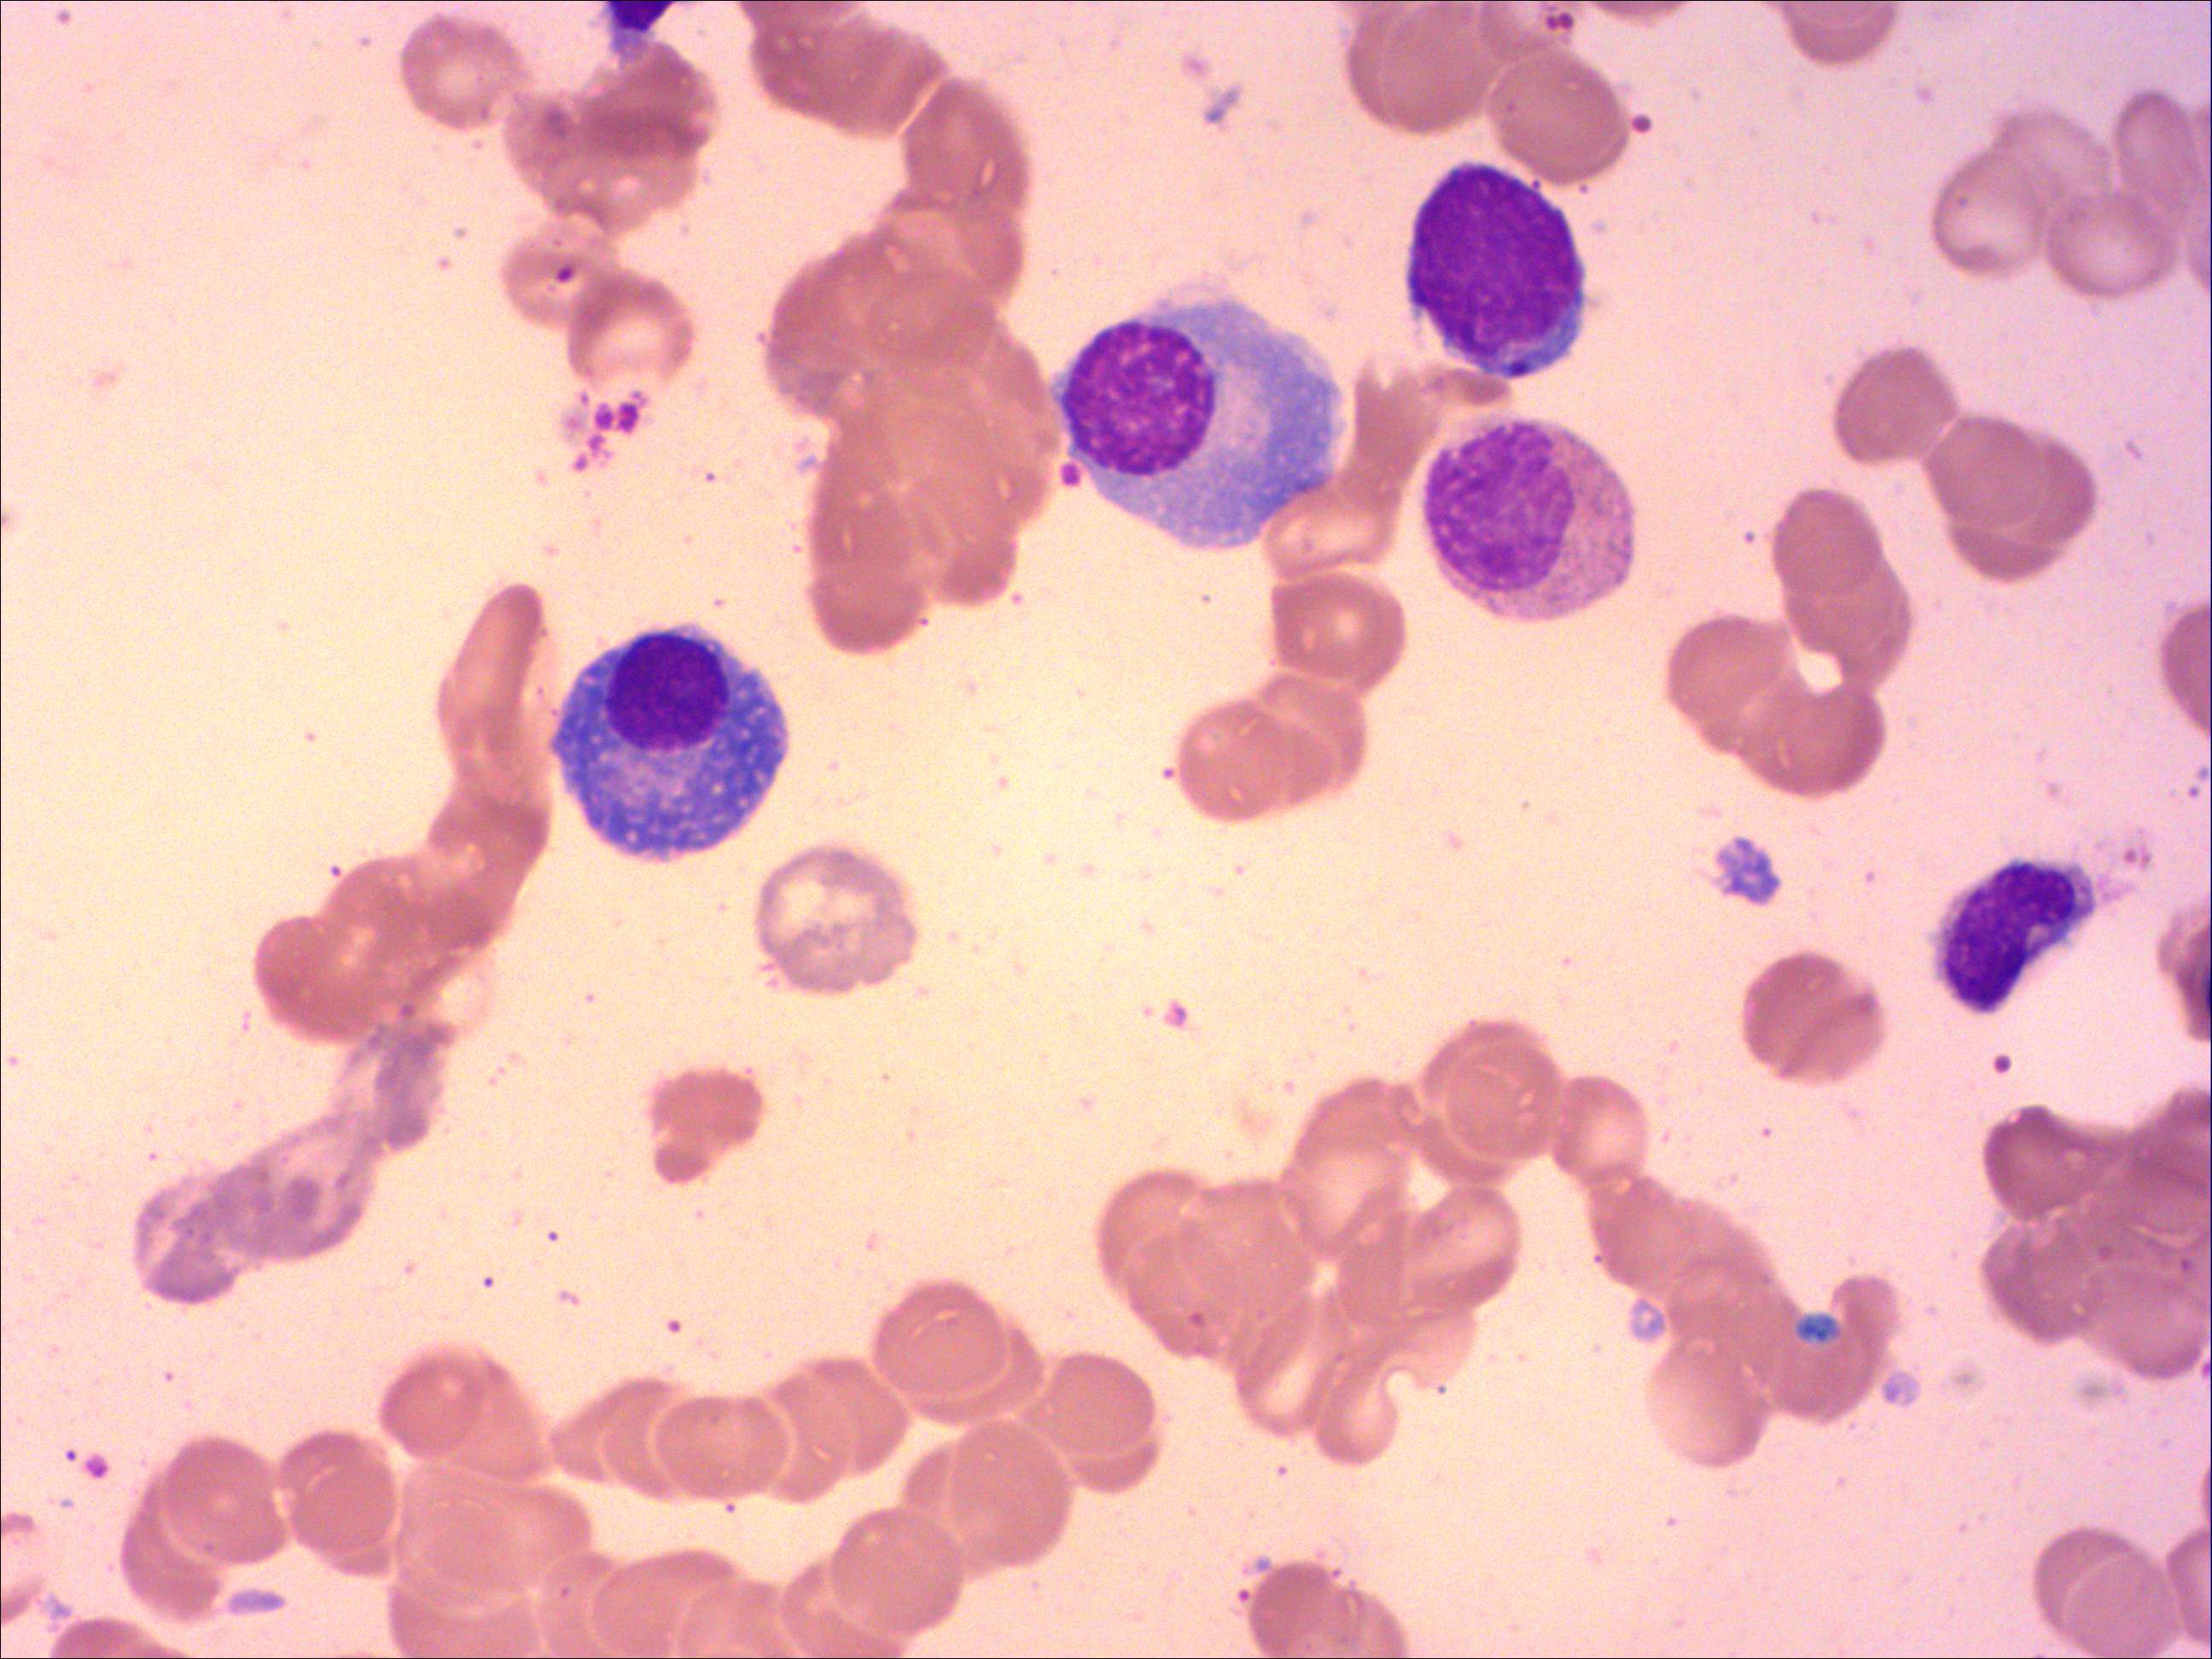31: (1399, 155, 1590, 385)
5: (1418, 411, 1641, 629)
51: (1040, 284, 1357, 563), (545, 620, 794, 871)
x: (1919, 850, 2104, 1019)
